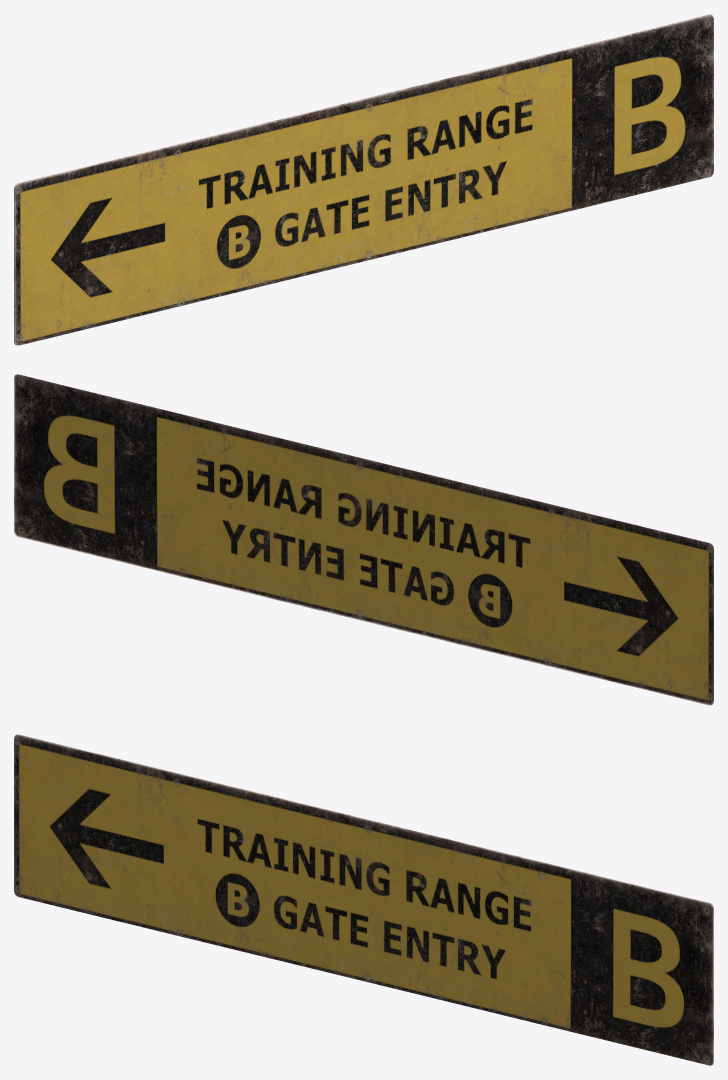
Rendered from SM_Sign_01f.glb.
3 views of the same model, one above another, from view 1: azimuth 30°, elevation 25°; view 2: azimuth 150°, elevation 25°; view 3: azimuth 330°, elevation 25° (orthographic).
Parts seen in each view (by area): view 1: SM_Sign_01f; view 2: SM_Sign_01f; view 3: SM_Sign_01f.
Boxes of the visible parts, box(x1,y1,x2,y2) form: SM_Sign_01f: box(14, 14, 713, 345); SM_Sign_01f: box(14, 374, 713, 705); SM_Sign_01f: box(14, 734, 713, 1065).
Size of the model in its own units: 1.93 by 0.4269 by 0.00402.
1 material, 1 textured.
